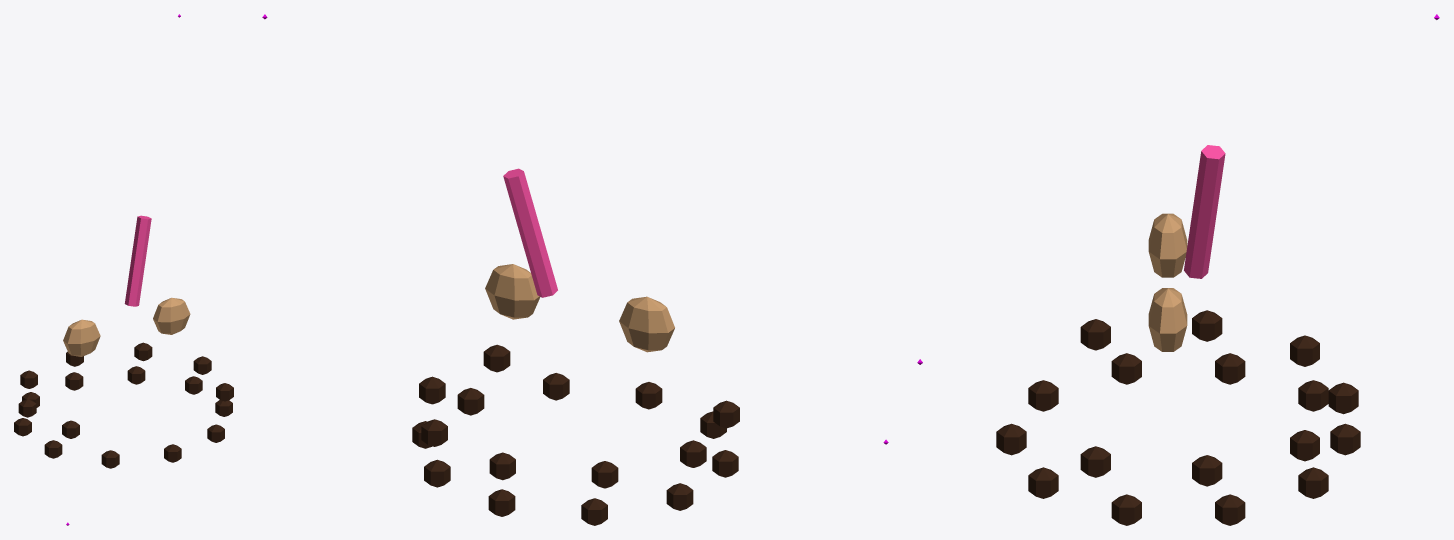
Rendered from acc_boba.fbx.
The picture shows the model from 3 angles, left to right: view 1: azimuth 30°, elevation 25°; view 2: azimuth 150°, elevation 25°; view 3: azimuth 270°, elevation 25°; orthographic projection. The views are drawn at different scales.
Parts seen in each view (by area): view 1: Pearls, Ears, Straw; view 2: Pearls, Ears, Straw; view 3: Pearls, Ears, Straw.
Part boxes in pixels (x1,y1,x2,y2): Pearls: [14, 342, 233, 468]; Ears: [63, 297, 190, 356]; Straw: [124, 215, 151, 306]; Pearls: [412, 344, 739, 525]; Ears: [485, 264, 674, 352]; Straw: [503, 168, 557, 297]; Pearls: [996, 310, 1360, 525]; Ears: [1148, 213, 1187, 351]; Straw: [1184, 145, 1225, 278].
Bounding box in the file's own units: 2.99 × 3.6 × 2.99.
